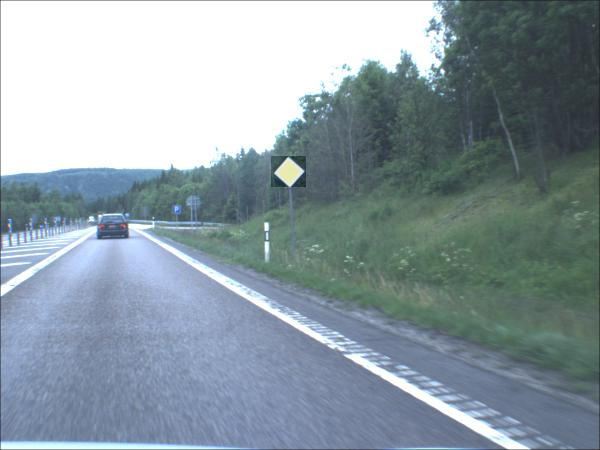PRIORITY_ROAD: (272, 157, 308, 189)
